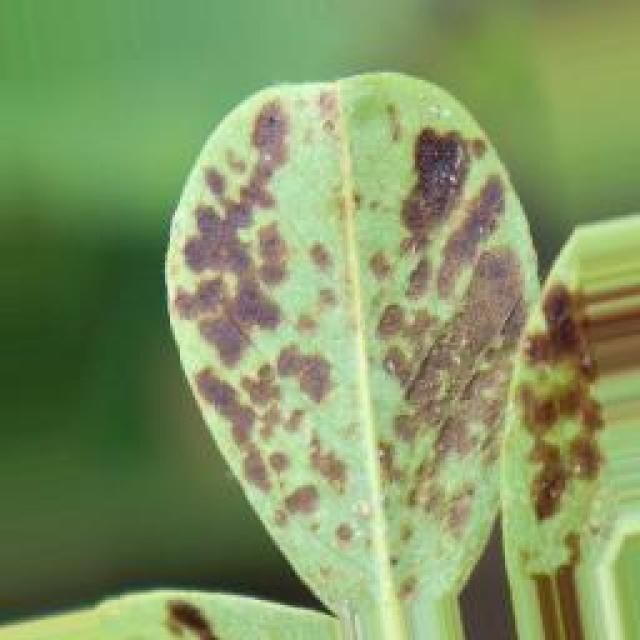Whitefly: (102, 58, 604, 578)
